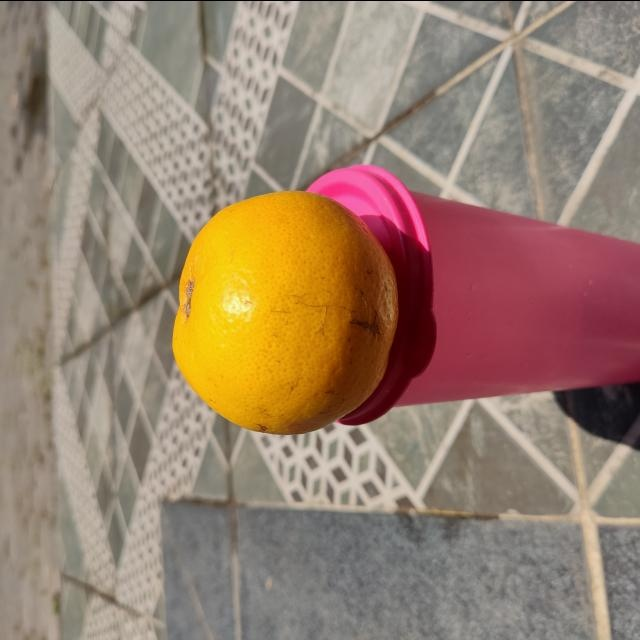agrume: (172, 189, 404, 436)
